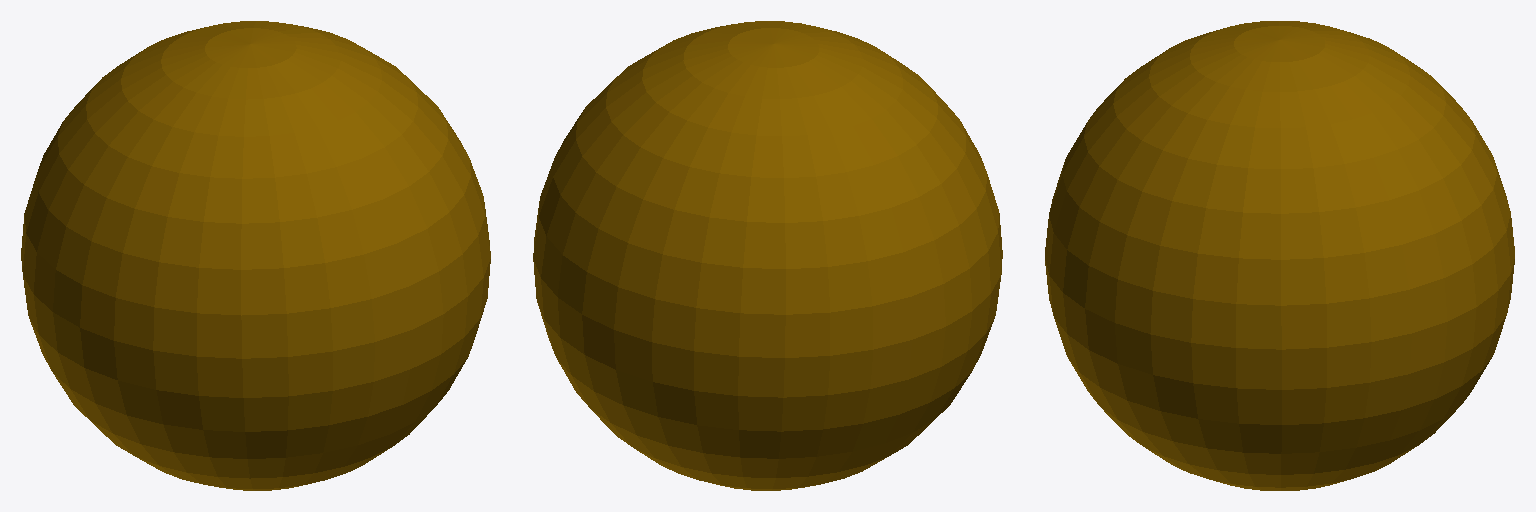
The model's file is Chicken-1obj.obj.
3 renders of one model, left to right at view 1: azimuth 30°, elevation 25°; view 2: azimuth 150°, elevation 25°; view 3: azimuth 270°, elevation 25°, orthographic.
Visible parts, largest first — view 1: Sphere.027; view 2: Sphere.027; view 3: Sphere.027.
Boxes of the visible parts, x1,y1,x2,y2 form: Sphere.027: [21, 21, 490, 490]; Sphere.027: [533, 21, 1002, 490]; Sphere.027: [1045, 21, 1514, 490].
Size of the model in its own units: 2.45 by 2.45 by 2.45.